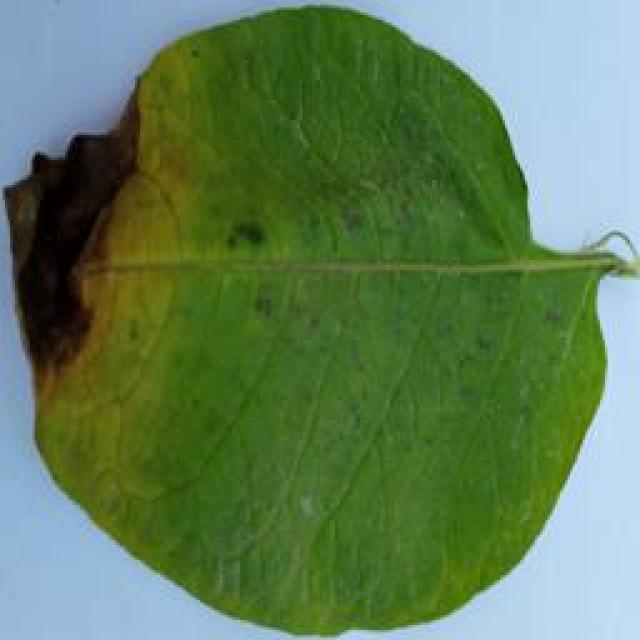Potato_Late_Blight: (2, 8, 626, 634)
